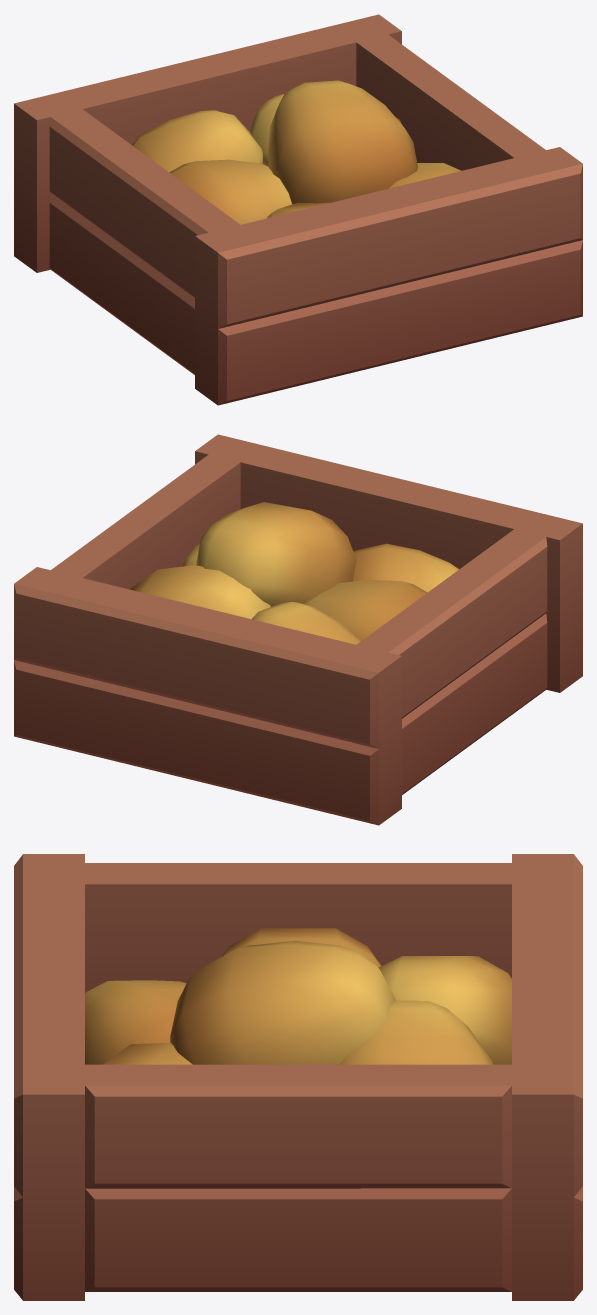
The model's file is Crate of Potatoes.glb.
3 renders of one model, top to bottom at view 1: azimuth 30°, elevation 25°; view 2: azimuth 150°, elevation 25°; view 3: azimuth 270°, elevation 25°, orthographic. The views are drawn at different scales.
Visible parts, largest first — view 1: crate_potatoes; view 2: crate_potatoes; view 3: crate_potatoes.
Part boxes in pixels (x1,y1,x2,y2): crate_potatoes: (14, 14, 582, 405); crate_potatoes: (14, 434, 582, 825); crate_potatoes: (14, 854, 582, 1300).
Bounding box in the file's own units: 2 × 0.9658 × 2.
1 material, 1 textured.
